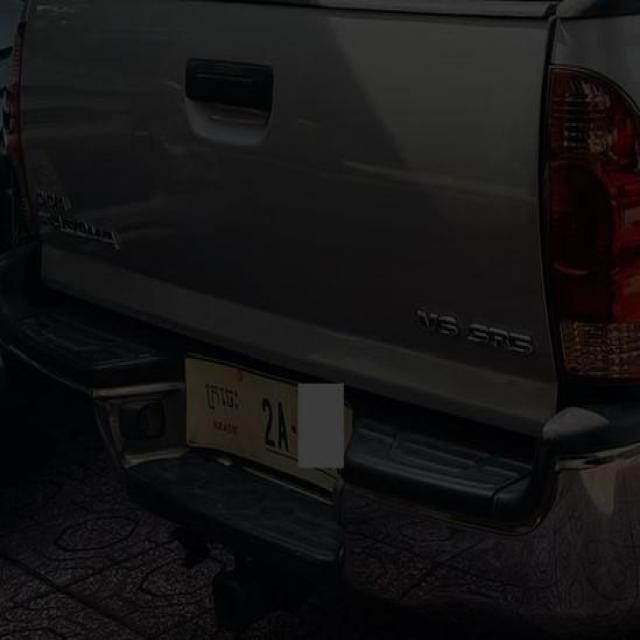Kratie: (205, 382, 240, 412)
